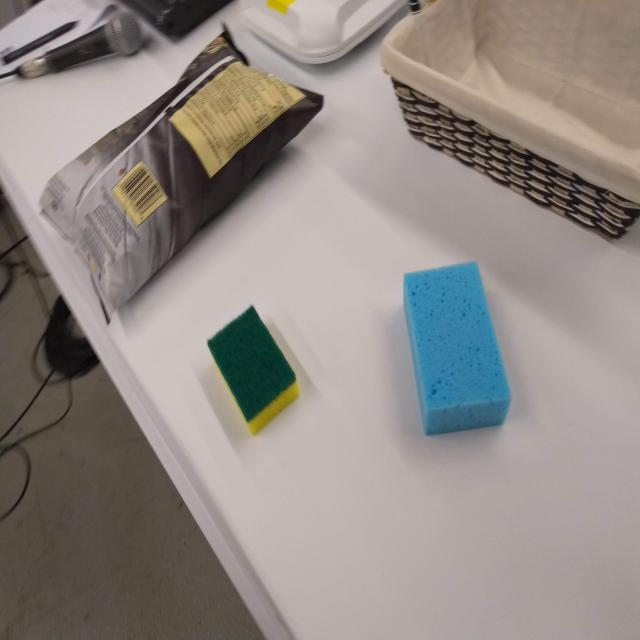potato_chips: (35, 20, 329, 330)
scrubby: (202, 300, 302, 442)
sponge_opl: (396, 257, 516, 441)
